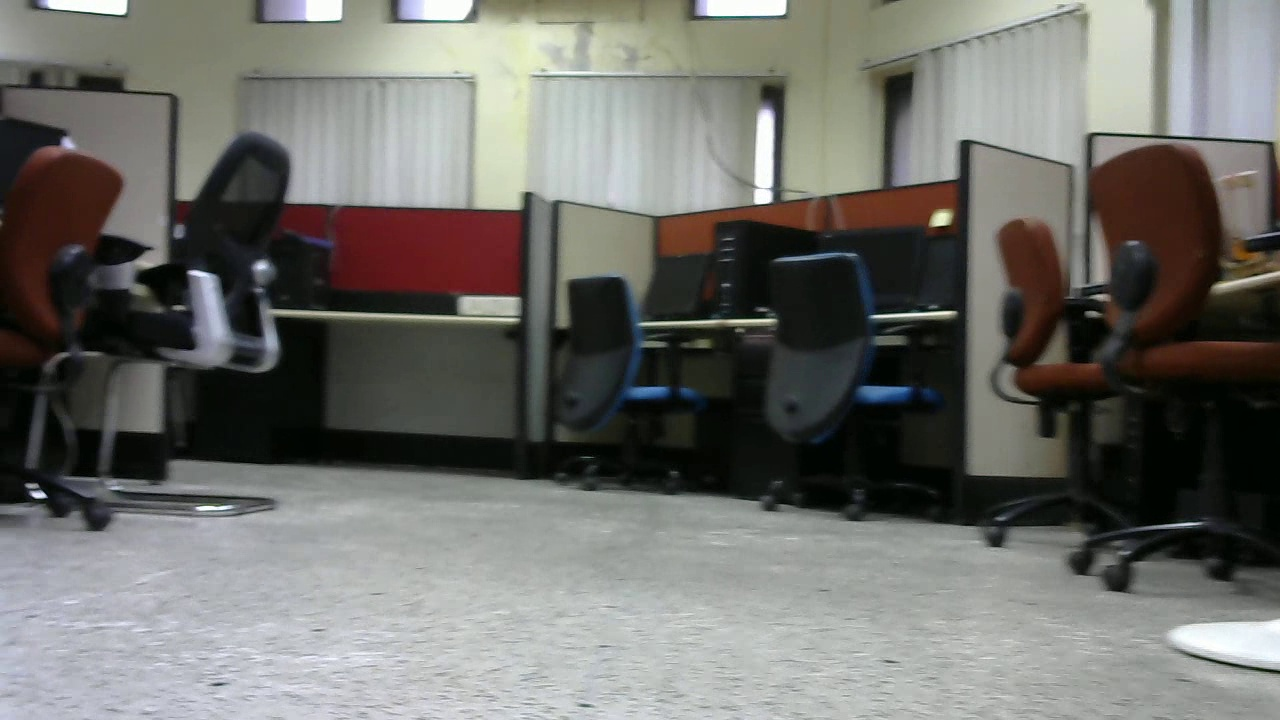chair: (1081, 140, 1280, 600), (129, 130, 293, 519), (968, 215, 1139, 545), (749, 248, 937, 527), (10, 144, 126, 530), (534, 276, 713, 496)
